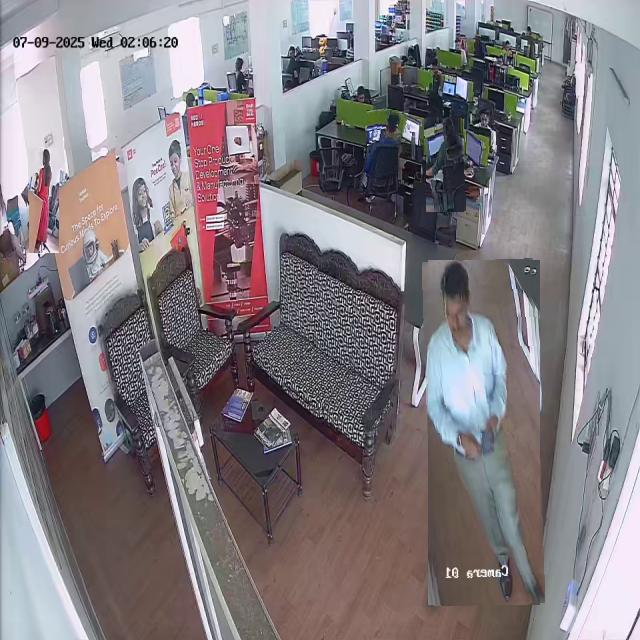person: (425, 259, 543, 606), (425, 117, 465, 212), (362, 109, 403, 196), (29, 148, 59, 253), (473, 109, 499, 154)
